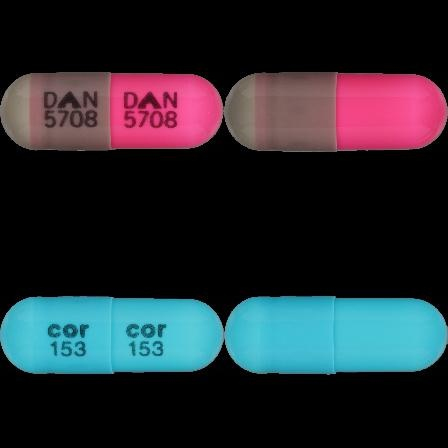67046-084: (0, 0, 224, 224)
